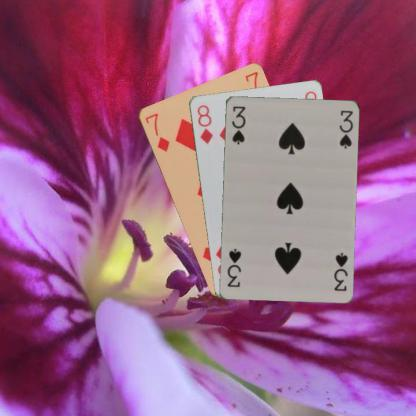3s: (228, 102, 247, 146), (330, 250, 349, 292)
7d: (142, 110, 171, 153)
8d: (194, 102, 214, 145)
